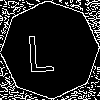L: (25, 25, 56, 73)
